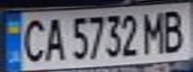2: (121, 11, 142, 57)
3: (103, 11, 124, 58)
5: (66, 14, 90, 61)
7: (87, 12, 106, 60)
A: (39, 15, 69, 63)
B: (157, 7, 190, 54)
C: (18, 15, 48, 64)
M: (139, 8, 169, 56)
